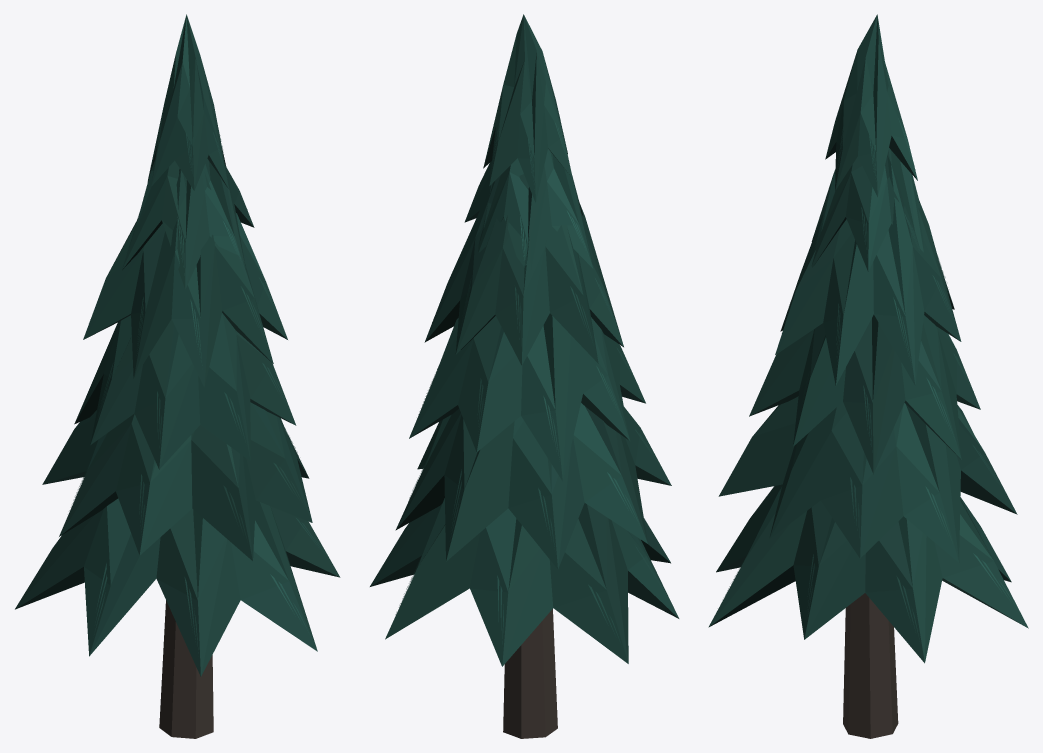
File: Spruce0.glb
3 renders of one model, left to right at view 1: azimuth 30°, elevation 25°; view 2: azimuth 150°, elevation 25°; view 3: azimuth 270°, elevation 25°, orthographic.
Visible parts, largest first — view 1: Spruce0; view 2: Spruce0; view 3: Spruce0.
Boxes of the visible parts, left/top/right/bottom form: Spruce0: left=15, top=14, right=340, bottom=738; Spruce0: left=370, top=14, right=679, bottom=738; Spruce0: left=708, top=14, right=1028, bottom=738.
Bounding box in the file's own units: 0.3943 × 1 × 0.4072.
